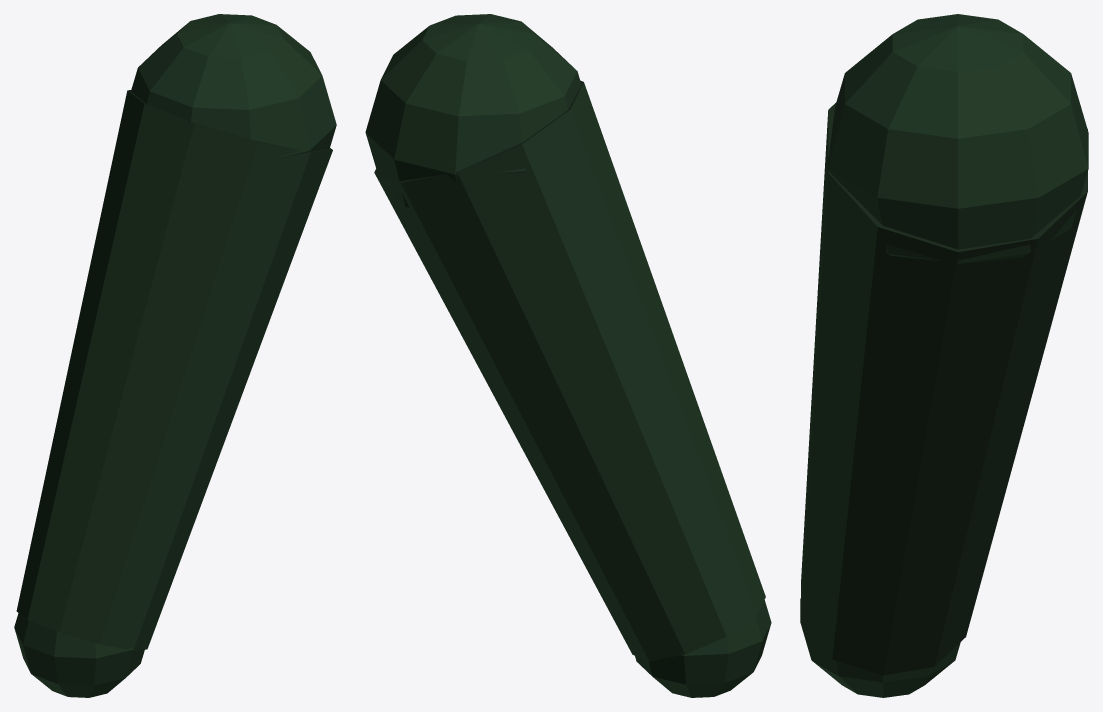
File: SM_velociraptor_hind_r_Lower.fbx
3 views of the same model, side by side, from view 1: azimuth 30°, elevation 25°; view 2: azimuth 150°, elevation 25°; view 3: azimuth 270°, elevation 25° (orthographic). The views are drawn at different scales.
Visible parts, largest first — view 1: SM_velociraptor_hind_r_Lower export; view 2: SM_velociraptor_hind_r_Lower export; view 3: SM_velociraptor_hind_r_Lower export.
Boxes of the visible parts, x1,y1,x2,y2 form: SM_velociraptor_hind_r_Lower export: (14, 14, 336, 697); SM_velociraptor_hind_r_Lower export: (365, 14, 771, 697); SM_velociraptor_hind_r_Lower export: (800, 14, 1088, 697).
Bounding box in the file's own units: 117 × 69.28 × 205.
